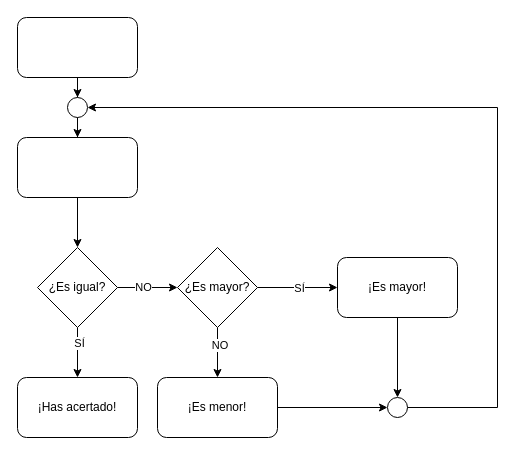
Some shapes in this 523 by 455 pixel diagram are drawn without their labels. The box of each missing label's shape, as (x1, y1, x2, y2) in pixels:
Dime un número: (16, 136, 138, 198)
Pensar el número a adivinar: (16, 16, 138, 78)
